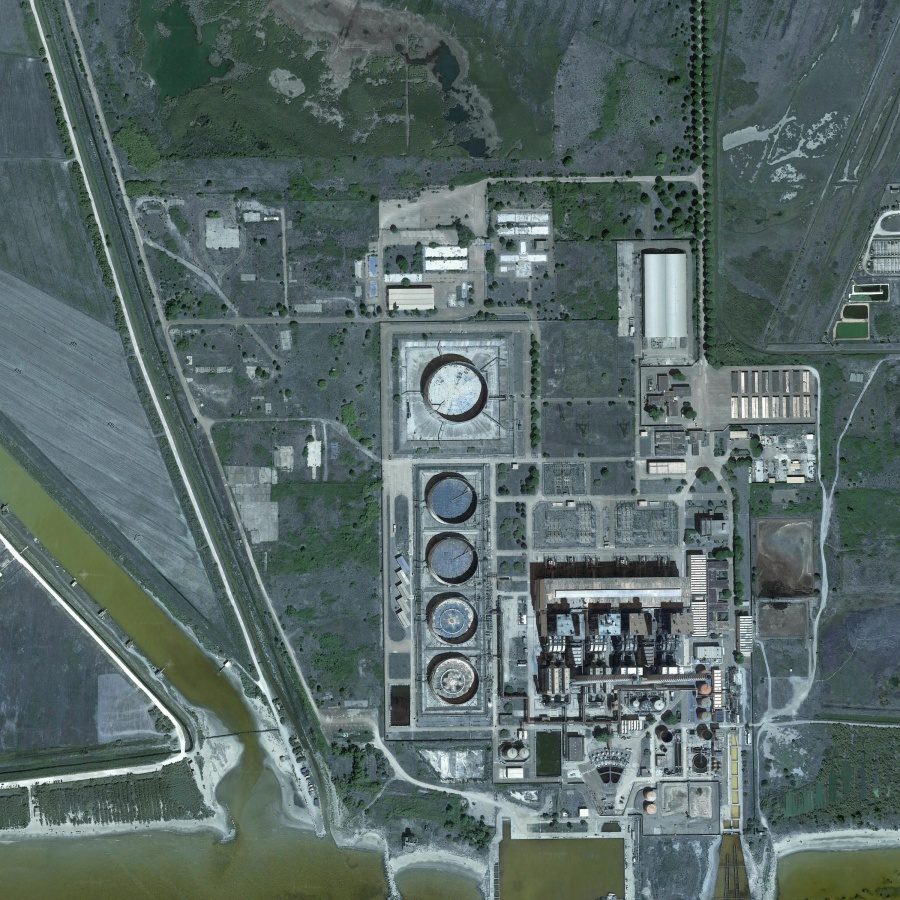PowerPlant: (377, 322, 526, 738)
